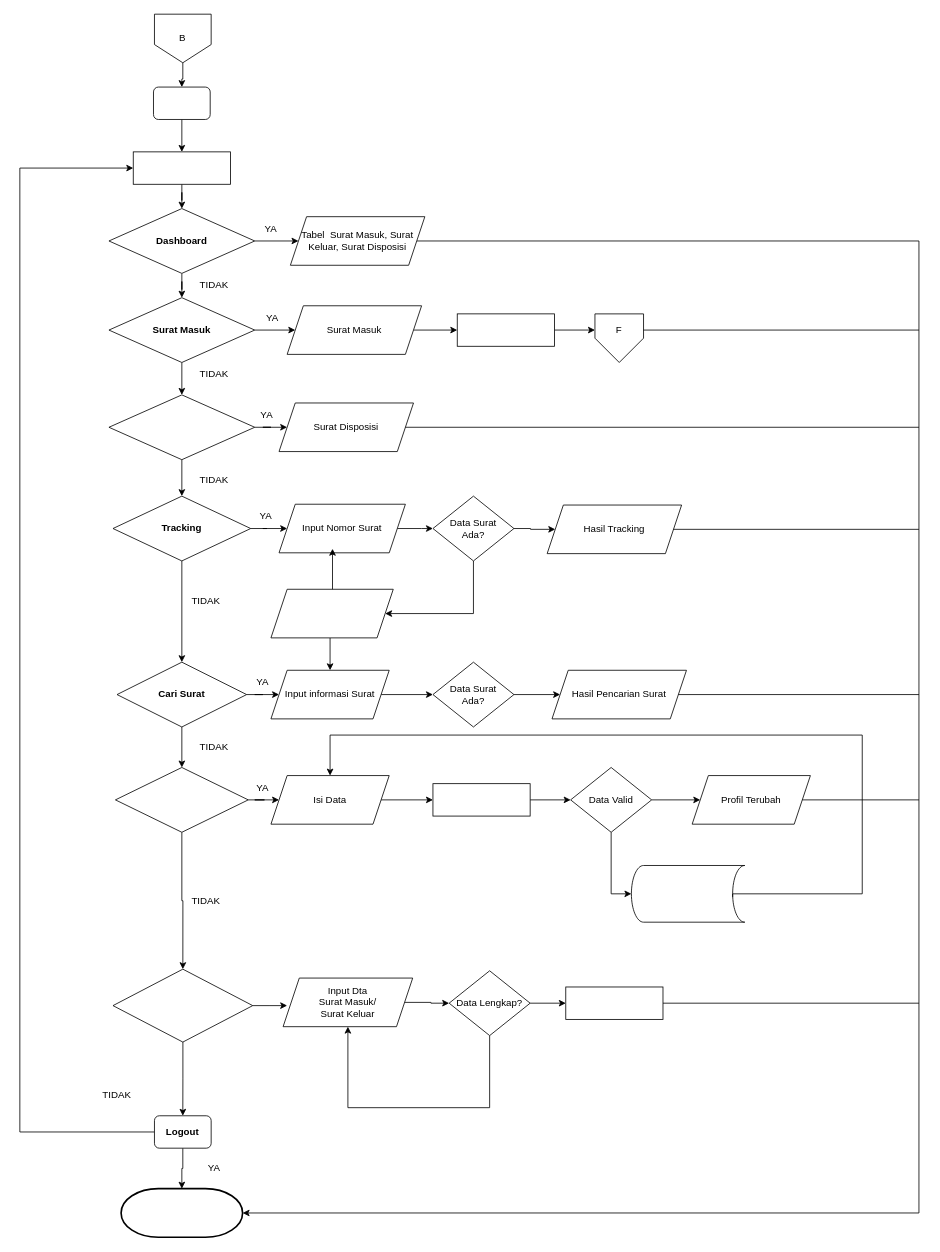
The diagram is 940 pixels wide and 1252 high, and some of its shapes have lost their labels. Each missing label, with the box of its shape:
Aksi Surat: (456, 313, 554, 346)
DisposisI: (108, 394, 255, 460)
Login: (153, 86, 210, 119)
Menampilkan Pesan Gagal Ubah Profill: (631, 865, 745, 922)
Pilih Menu: (132, 151, 230, 184)
Selesai: (120, 1187, 243, 1238)
Surat Terkirim: (565, 986, 663, 1019)
Surat Tidak Ditemukan: (270, 588, 393, 638)
Tambah Surat Masuk/Surat Keluar: (112, 968, 253, 1042)
Ubah Profil: (115, 767, 248, 832)
Upload Foto: (432, 783, 530, 816)
